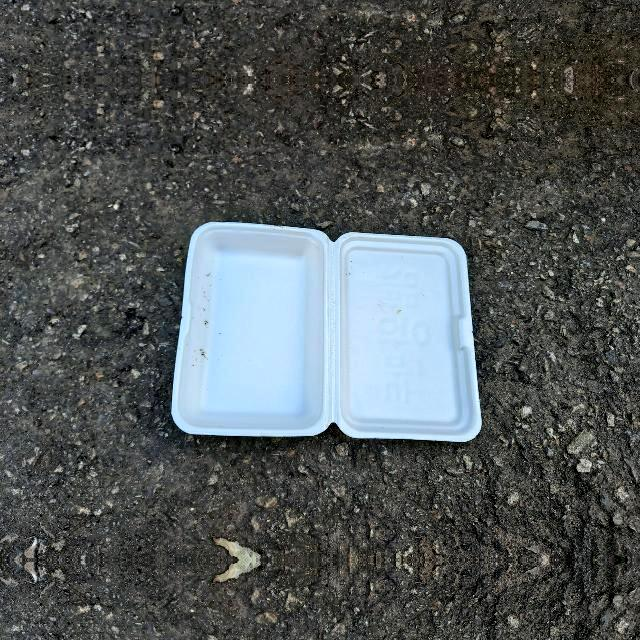Styrofoam: (170, 219, 482, 443), (171, 222, 482, 442)
